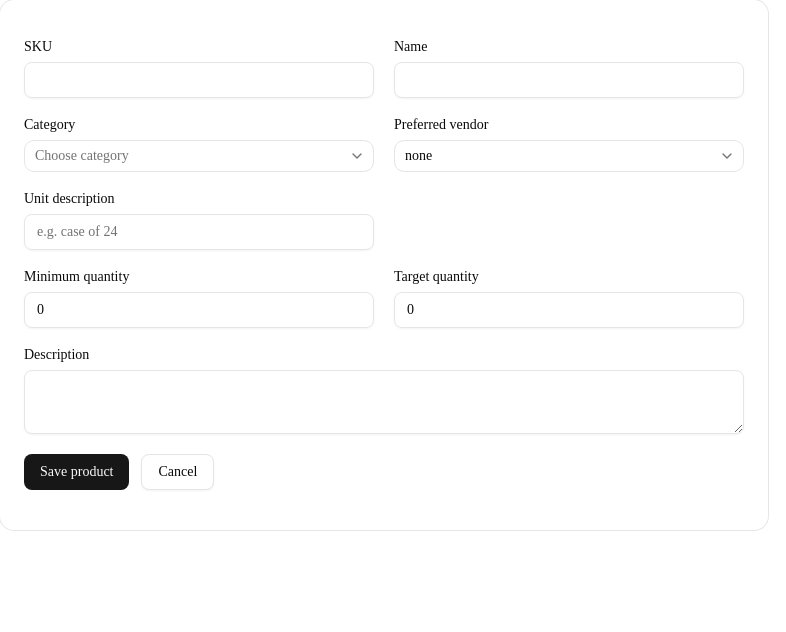
Test case: ProductForm › requires identity and enforces target at least minimum
Replace the text in the number field labelled "Minimum quantity" with "10": [199, 310] box [24,292,374,328]
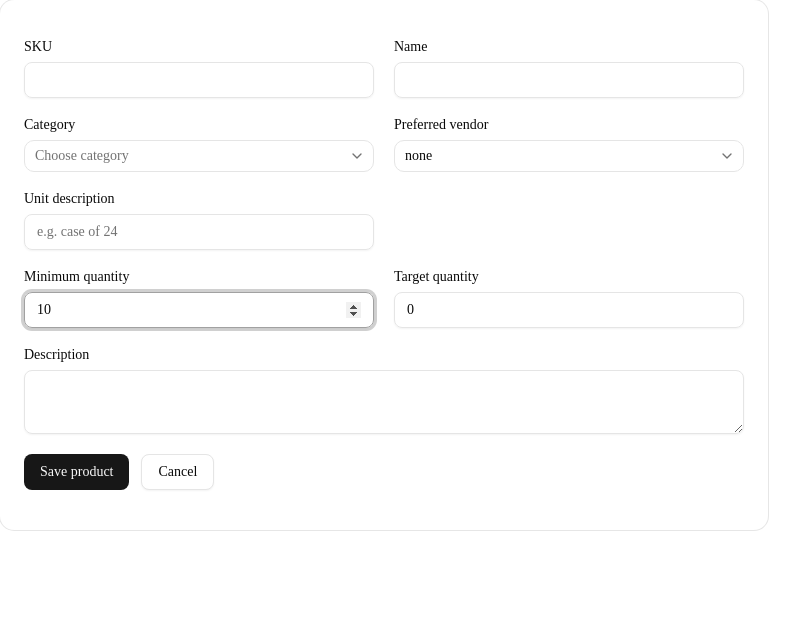
Replace the text in the number field labelled "Target quantity" with "5": [569, 310] box [394,292,744,328]
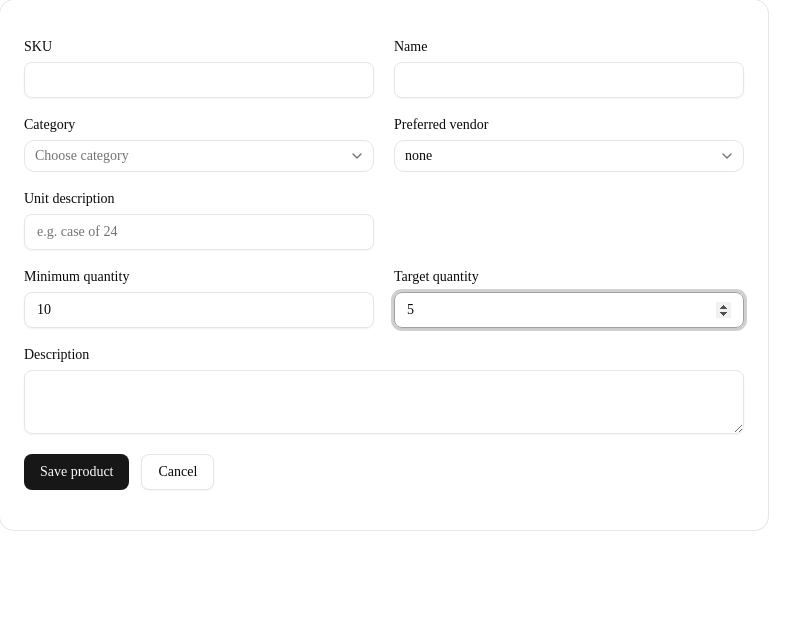
Click the button "Save product": [77, 472] box [24,454,130,490]
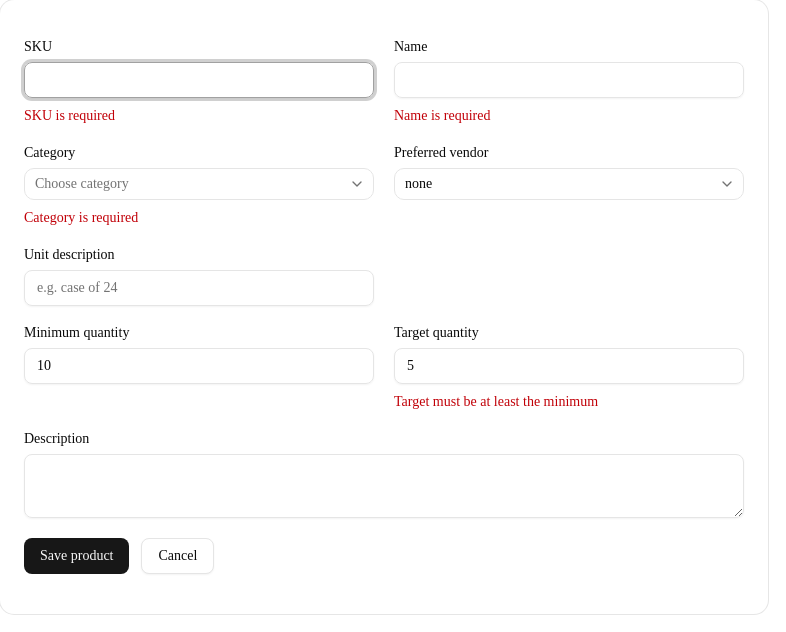
Now the text "SKU is required" is shown, box [24,108,115,123]
Now the text "Target must be at least the minimum" is shown, box [394,394,598,409]
